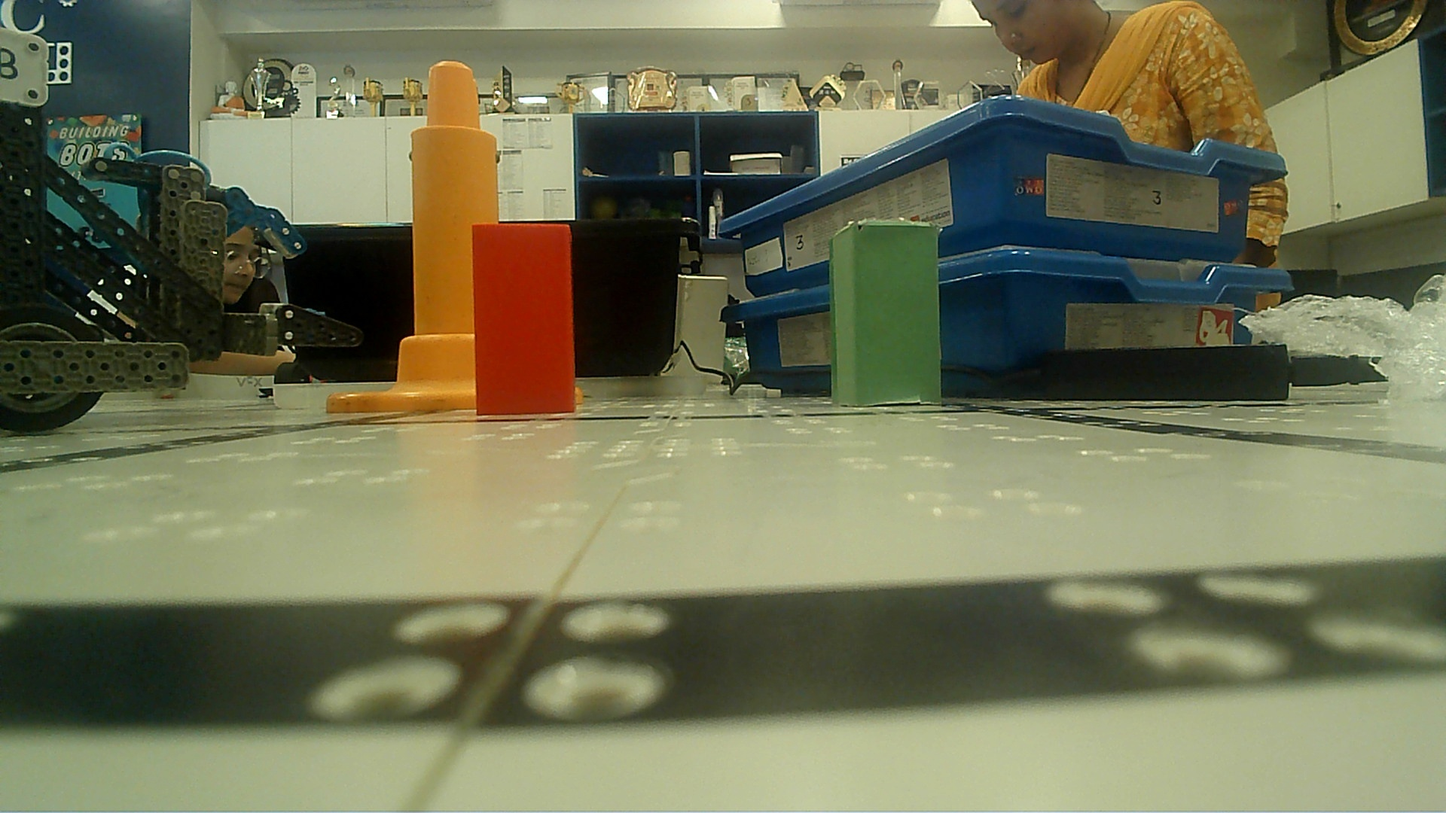red: (465, 208, 575, 431)
